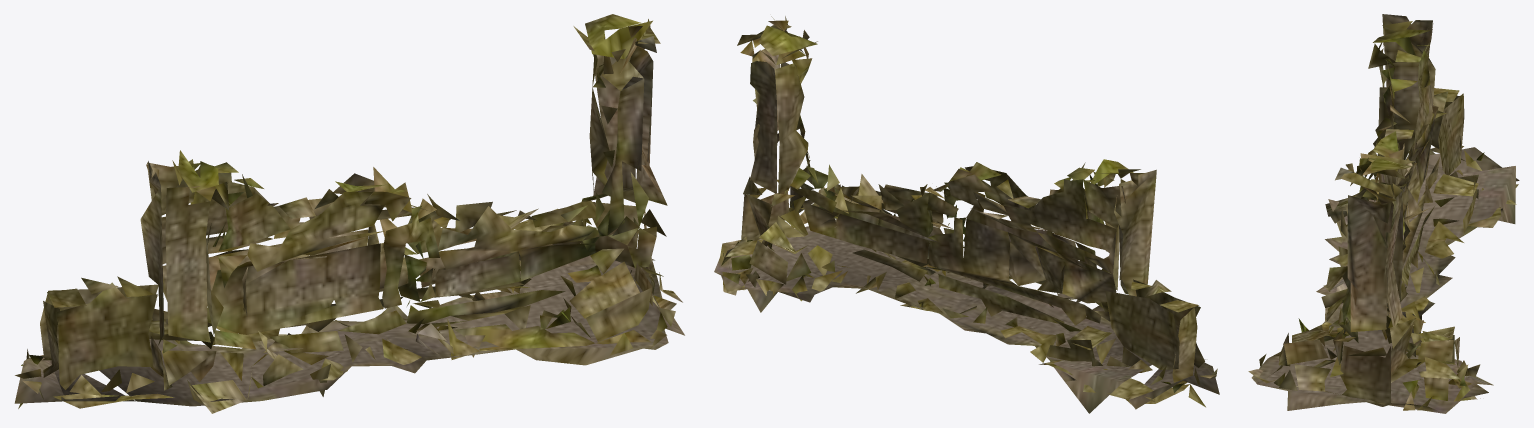
File: ruina_muro_lod2.glb
3 views of the same model, side by side, from view 1: azimuth 30°, elevation 25°; view 2: azimuth 150°, elevation 25°; view 3: azimuth 270°, elevation 25° (orthographic). The views are drawn at different scales.
Parts seen in each view (by area): view 1: ruina_muro; view 2: ruina_muro; view 3: ruina_muro.
Boxes of the visible parts, left/top/right/bottom form: ruina_muro: left=14, top=14, right=684, bottom=413; ruina_muro: left=714, top=16, right=1219, bottom=413; ruina_muro: left=1248, top=14, right=1519, bottom=413.
Size of the model in its own units: 8.32 by 3.83 by 3.62.
Materials: 1 (1 with a texture image).
